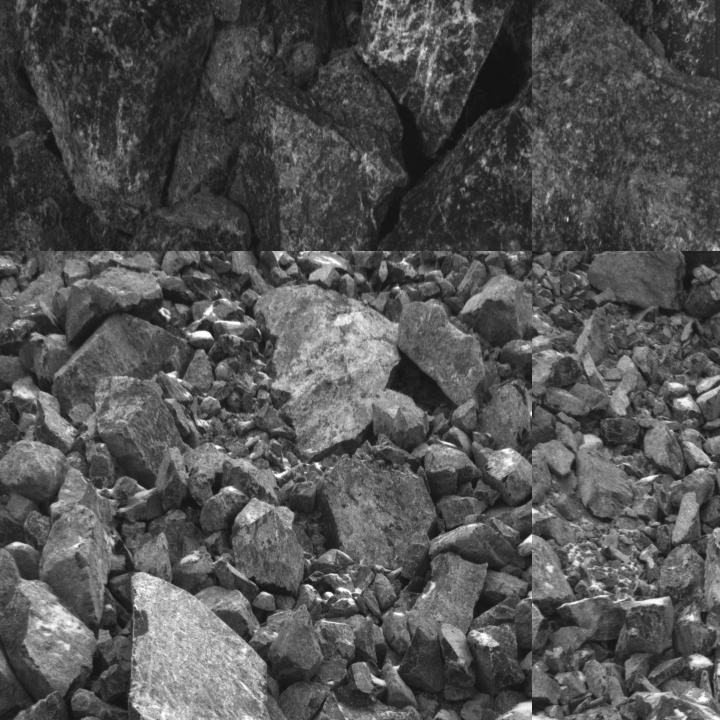stone: (532, 0, 719, 250), (12, 0, 214, 231), (351, 41, 531, 250), (228, 64, 408, 250), (359, 0, 516, 160), (259, 286, 407, 453), (130, 569, 287, 719), (117, 187, 402, 250), (321, 444, 436, 564), (52, 312, 192, 410), (39, 465, 116, 629), (0, 579, 98, 699), (94, 376, 185, 489), (397, 299, 488, 403), (306, 48, 404, 144), (65, 266, 163, 344), (232, 497, 304, 596), (588, 251, 689, 314), (411, 553, 488, 632), (465, 268, 531, 345), (0, 440, 70, 507), (575, 443, 633, 521), (269, 605, 325, 683), (614, 597, 674, 661), (478, 383, 531, 455), (429, 522, 514, 566), (657, 544, 707, 618), (372, 390, 430, 452), (532, 531, 577, 610), (468, 630, 524, 693), (195, 586, 258, 639), (479, 448, 531, 508), (400, 622, 445, 690), (0, 516, 13, 719), (439, 623, 478, 687), (643, 421, 688, 475), (154, 445, 189, 514), (532, 348, 585, 393), (623, 251, 719, 275), (200, 487, 248, 532), (172, 546, 216, 592), (436, 496, 489, 533), (72, 686, 129, 719), (676, 611, 716, 658), (214, 558, 258, 600), (133, 535, 171, 582), (277, 684, 328, 719), (0, 546, 23, 621), (672, 489, 701, 544), (532, 596, 557, 657), (499, 341, 531, 383), (402, 530, 429, 579), (484, 570, 528, 598), (532, 664, 562, 705), (599, 418, 642, 446), (532, 448, 552, 505), (449, 399, 478, 435), (511, 482, 531, 534), (515, 587, 531, 652), (210, 0, 250, 21)
